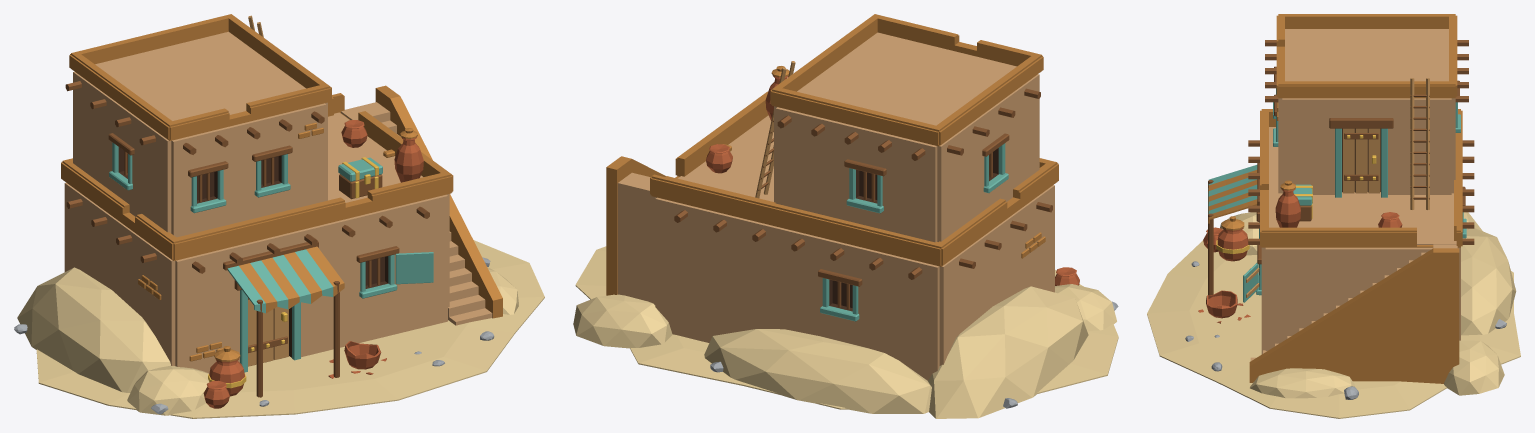
File: mud-brick-desert-house.glb
3 renders of one model, left to right at view 1: azimuth 30°, elevation 25°; view 2: azimuth 150°, elevation 25°; view 3: azimuth 270°, elevation 25°, orthographic. The views are drawn at different scales.
Visible parts, largest first — view 1: Walls_Ground, Walls_Upper, Sand_Ground, Sand_Drift_West, Parapet_Terrace, Parapet_Roof, Awning, Stairs_Wall, Sand_Drift_Corner, Stairs, Door, Shutter (+13 smaller); view 2: Walls_Ground, Walls_Upper, Sand_Drift_West, Sand_Drift_Back, Parapet_Terrace, Parapet_Roof, Sand_Ground, Stairs, Sand_Drift_BackRight, Stairs_Wall, Sand_Drift_Corner, Pot_4; view 3: Walls_Upper, Stairs_Wall, Sand_Ground, Walls_Ground, Parapet_Roof, Parapet_Terrace, Sand_Drift_Back, Door_Roof, Sand_Drift_Stairs, Sand_Drift_BackRight, Awning, Pot_3 (+11 smaller).
Boxes of the visible parts, x1,y1,x2,y2 form: Walls_Ground: [64, 112, 449, 373]; Walls_Upper: [73, 31, 327, 237]; Sand_Ground: [36, 240, 544, 418]; Sand_Drift_West: [17, 267, 170, 392]; Parapet_Terrace: [61, 93, 453, 260]; Parapet_Roof: [69, 14, 331, 140]; Awning: [227, 246, 344, 313]; Stairs_Wall: [375, 85, 502, 318]; Sand_Drift_Corner: [127, 365, 209, 415]; Stairs: [341, 102, 492, 325]; Door: [248, 298, 288, 366]; Shutter: [395, 252, 433, 284]; Walls_Ground: [655, 115, 1054, 380]; Walls_Upper: [774, 32, 1039, 242]; Sand_Drift_West: [928, 286, 1088, 418]; Sand_Drift_Back: [704, 329, 931, 413]; Parapet_Terrace: [650, 91, 1058, 266]; Parapet_Roof: [770, 14, 1043, 146]; Sand_Ground: [575, 246, 1118, 409]; Stairs: [617, 172, 655, 304]; Sand_Drift_BackRight: [573, 294, 672, 348]; Stairs_Wall: [606, 156, 666, 295]; Sand_Drift_Corner: [1055, 284, 1116, 330]; Pot_4: [706, 144, 732, 173]; Walls_Upper: [1278, 29, 1455, 194]; Stairs_Wall: [1249, 248, 1459, 383]; Sand_Ground: [1147, 240, 1520, 418]; Walls_Ground: [1261, 127, 1460, 354]; Parapet_Roof: [1276, 14, 1457, 98]; Parapet_Terrace: [1260, 109, 1462, 247]; Sand_Drift_Back: [1461, 228, 1516, 335]; Door_Roof: [1342, 128, 1380, 193]; Sand_Drift_Stairs: [1250, 368, 1354, 398]; Sand_Drift_BackRight: [1444, 340, 1504, 395]; Awning: [1208, 165, 1257, 223]; Pot_3: [1275, 189, 1300, 227].
Bounding box in the file's own units: 45.88 × 23.94 × 33.76.
